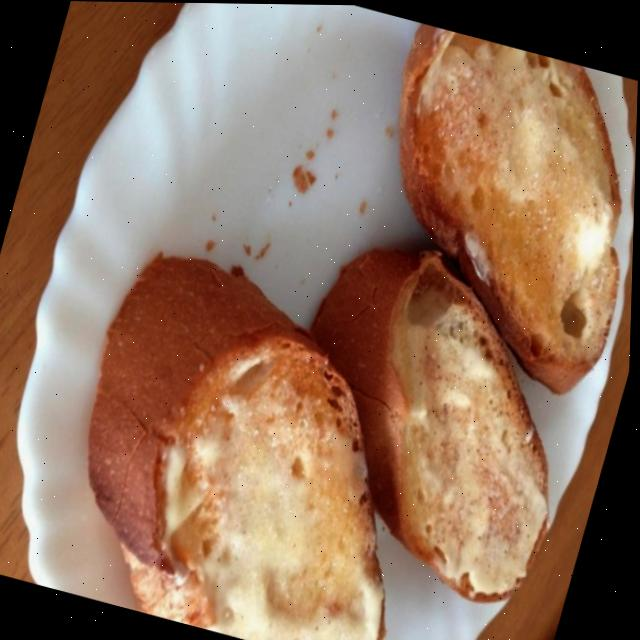面包点心: (9, 0, 640, 640)
